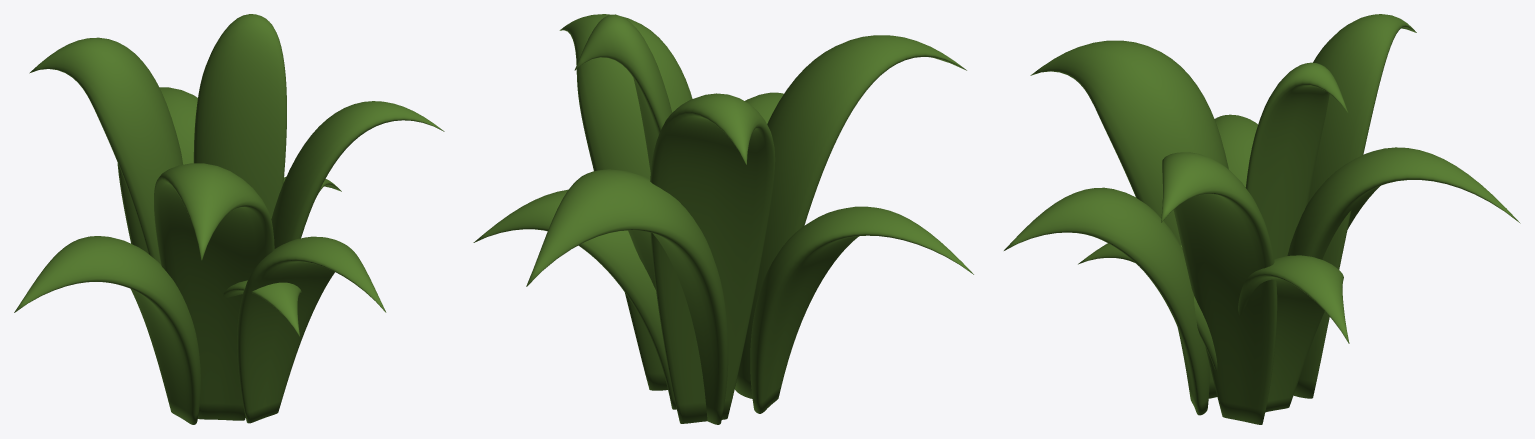
File: SM_BankArchTuft.fbx
3 renders of one model, left to right at view 1: azimuth 30°, elevation 25°; view 2: azimuth 150°, elevation 25°; view 3: azimuth 270°, elevation 25°, orthographic. The views are drawn at different scales.
Parts seen in each view (by area): view 1: SM_BankArchTuft; view 2: SM_BankArchTuft; view 3: SM_BankArchTuft.
Boxes of the visible parts, left/top/right/bottom form: SM_BankArchTuft: left=14, top=14, right=444, bottom=424; SM_BankArchTuft: left=473, top=14, right=973, bottom=424; SM_BankArchTuft: left=1004, top=14, right=1520, bottom=424.
Bounding box in the file's own units: 55.89 × 46.47 × 59.74.
